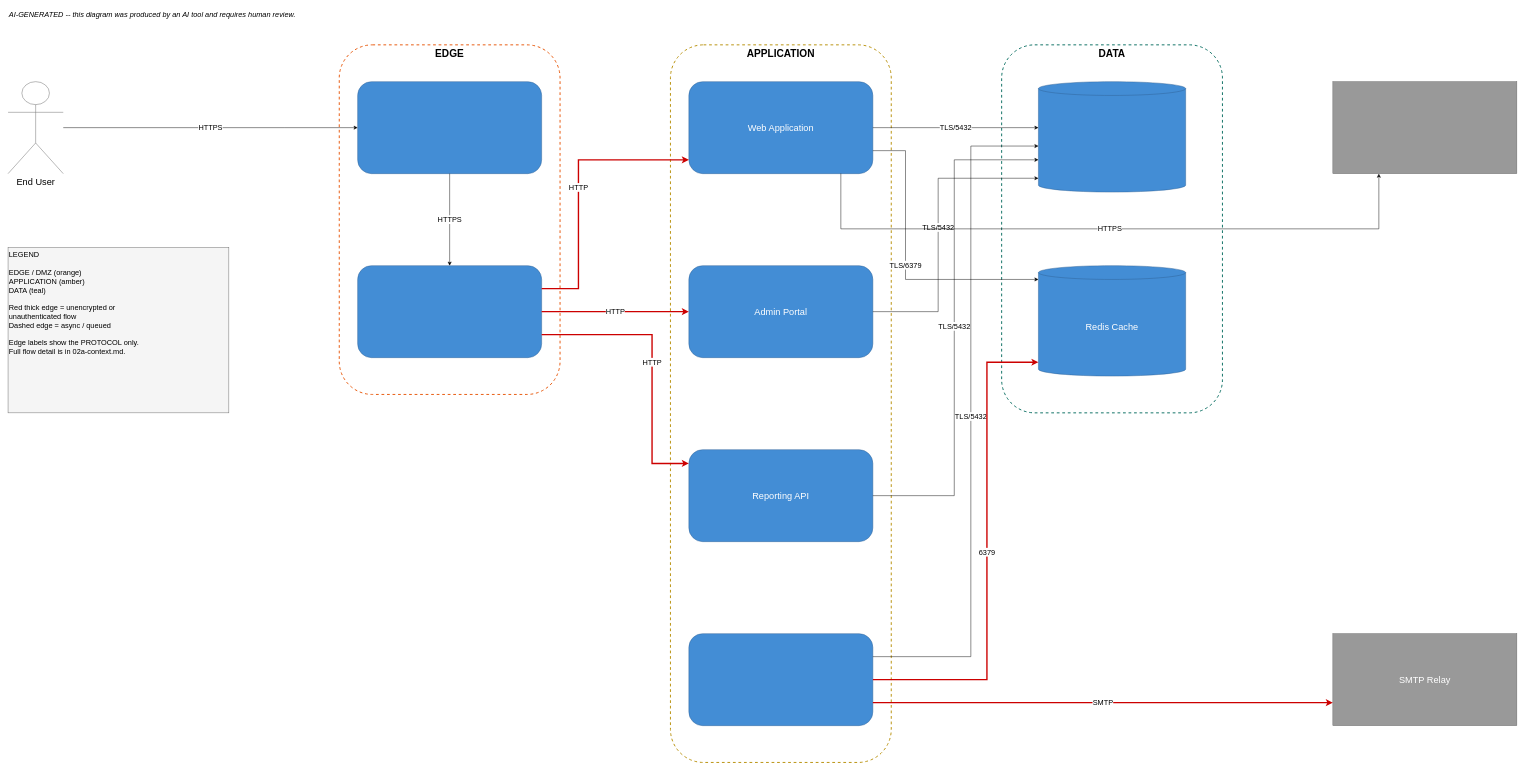
This 1525x771 diagram has some shape labels left out. Each missing label, with the centre of its shape:
Akamai WAF: point 449,127
Batch Worker: point 780,679
Bing Maps: point 1424,127
Prod Database: point 1112,136
Traefik Ingress: point 449,311
